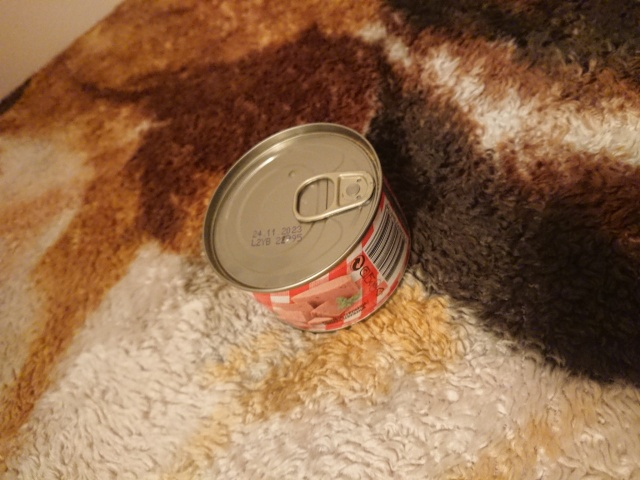Podravka Luncheon Meat 150g: (199, 119, 416, 337)
